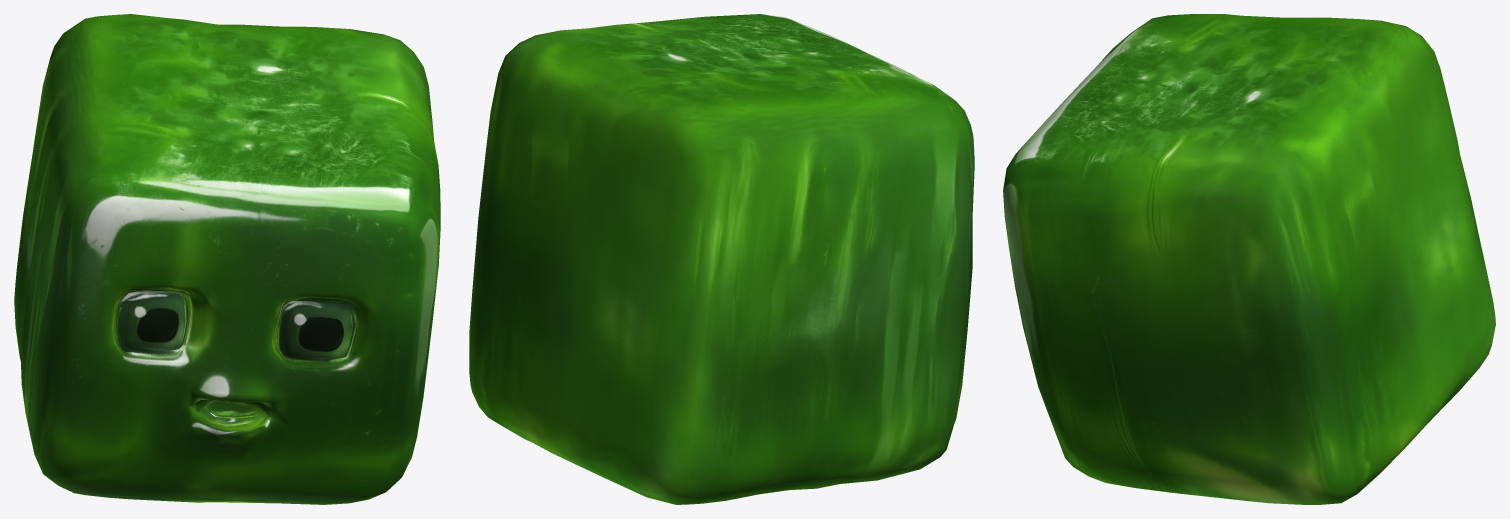
The model's file is slime_single_1500.glb.
The picture shows the model from 3 angles, left to right: view 1: azimuth 30°, elevation 25°; view 2: azimuth 150°, elevation 25°; view 3: azimuth 270°, elevation 25°; orthographic projection. The views are drawn at different scales.
Size of the model in its own units: 0.9021 by 0.8376 by 0.941.
1 material, 1 textured.
